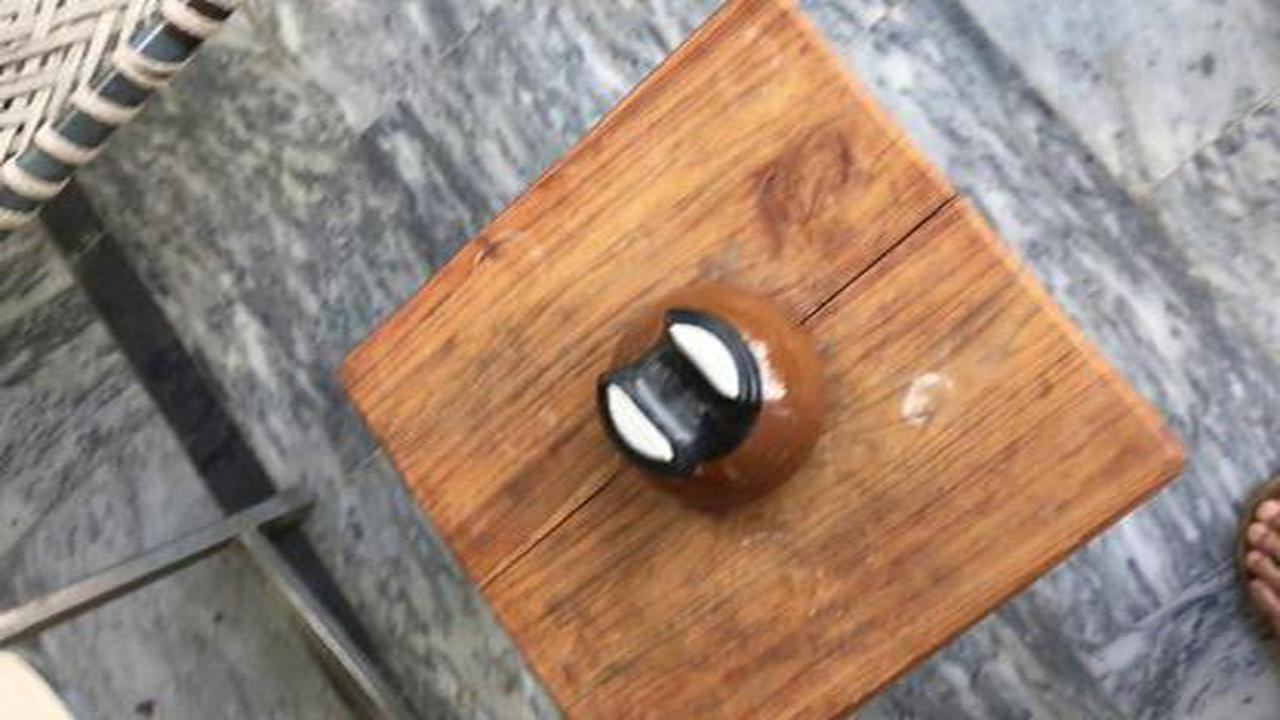insulator_pin: (564, 272, 853, 516)
